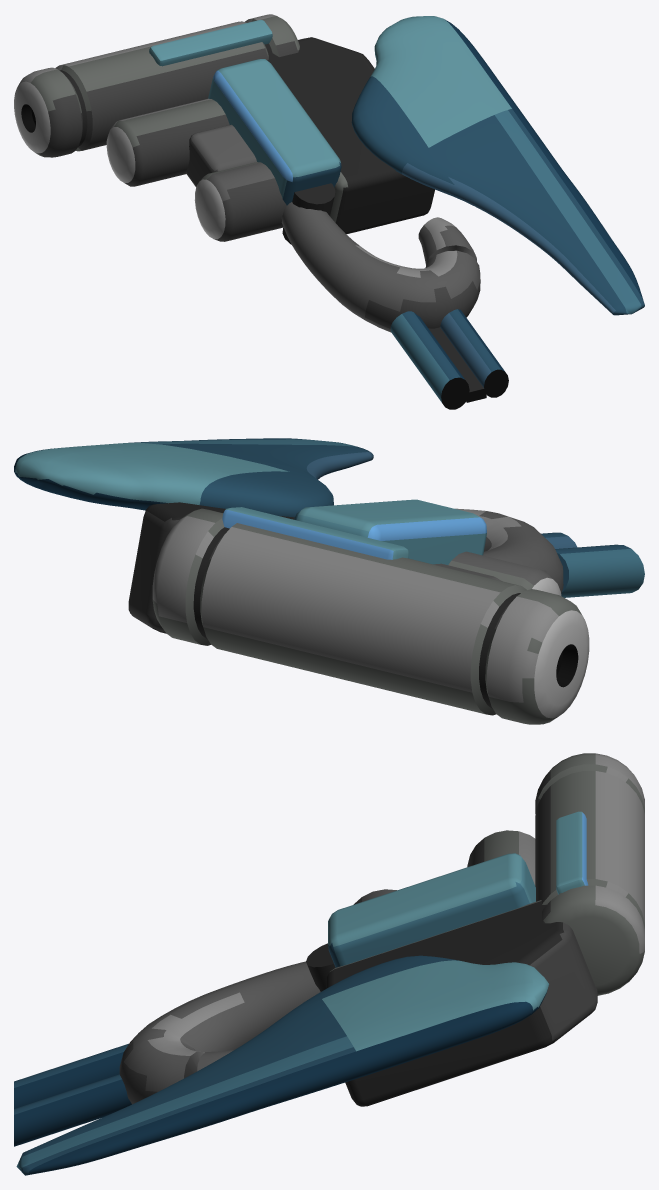
File: ball_mast_gun.glb
The picture shows the model from 3 angles, top to bottom: view 1: azimuth 30°, elevation 25°; view 2: azimuth 150°, elevation 25°; view 3: azimuth 270°, elevation 25°; orthographic projection. The views are drawn at different scales.
Parts seen in each view (by area): view 1: fin.001, barrel.001, yoke.001, receiver.001, grip.001, barrel2.001, stub.001, rod0.001, strip.001, stub_block.001, rod1.001, web.001 (+1 smaller); view 2: barrel.001, fin.001, grip.001, rod0.001, receiver.001, yoke.001, strip.001, stub.001; view 3: fin.001, barrel.001, receiver.001, yoke.001, grip.001, rod1.001, rod0.001, strip.001, barrel2.001, pin.001.
Boxes of the visible parts, x1,y1,x2,y2 form: fin.001: (351,16,644,315); barrel.001: (14,14,299,157); yoke.001: (281,202,480,332); receiver.001: (267,37,434,234); grip.001: (208,59,341,205); barrel2.001: (106,98,229,186); stub.001: (194,162,286,241); rod0.001: (390,311,469,409); strip.001: (149,19,272,66); stub_block.001: (186,124,256,187); rod1.001: (440,309,508,397); web.001: (428,327,486,402); barrel.001: (152,508,589,724); fin.001: (14,438,373,517); grip.001: (294,499,486,564); rod0.001: (555,544,644,597); receiver.001: (128,502,294,633); yoke.001: (455,508,563,593); strip.001: (222,507,408,559); stub.001: (448,551,561,595); fin.001: (16,955,548,1175); barrel.001: (535,753,644,995); receiver.001: (326,900,597,1106); yoke.001: (119,961,320,1104); grip.001: (328,853,535,967); rod1.001: (14,1074,131,1146); rod0.001: (14,1043,128,1108); strip.001: (556,811,588,894); barrel2.001: (467,830,535,885); pin.001: (306,943,335,991).
Bounding box in the file's own units: 22.45 × 11.47 × 24.64.
